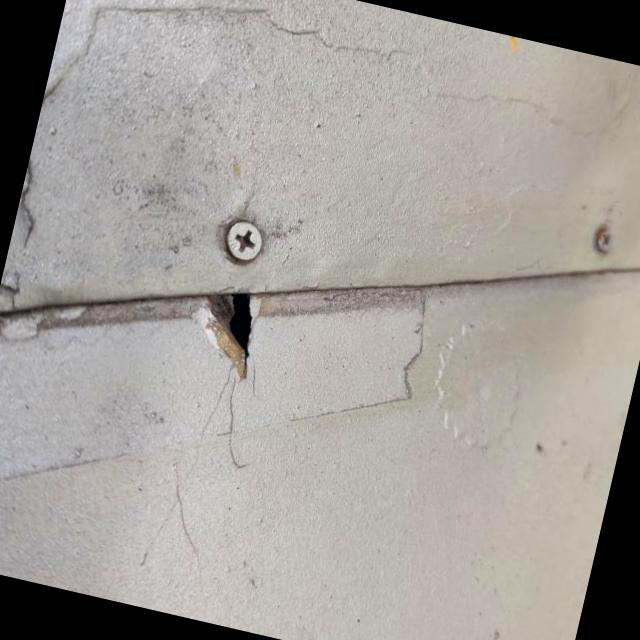crack: (136, 248, 317, 420)
